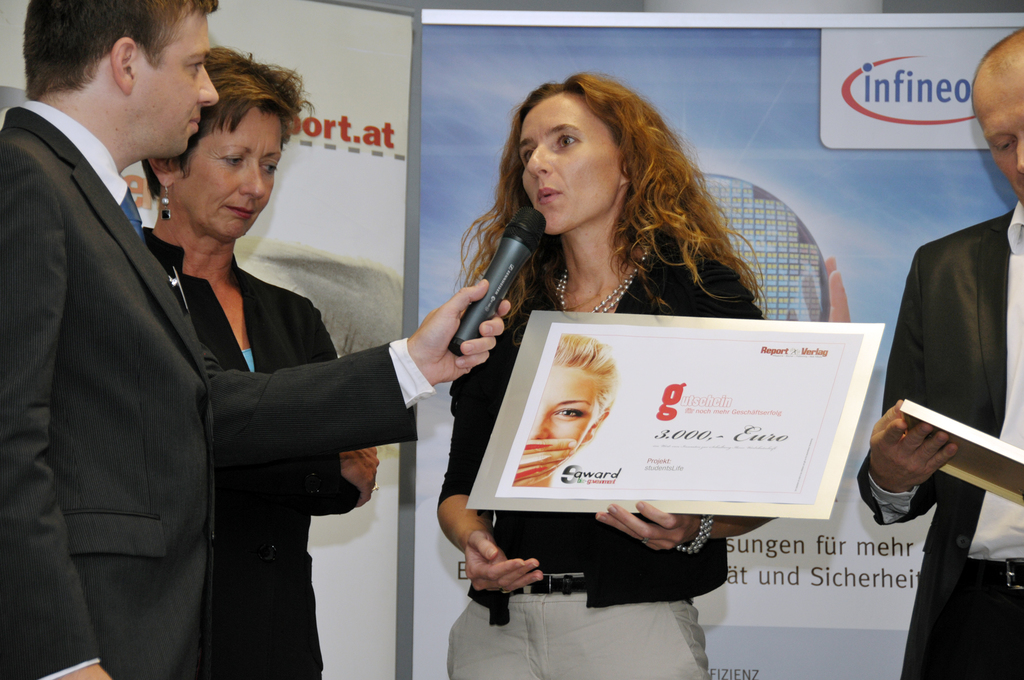Human_hand: (412, 279, 512, 382), (869, 398, 959, 489), (467, 531, 552, 615), (598, 500, 701, 555), (785, 256, 851, 324), (513, 440, 572, 485), (344, 450, 378, 501), (60, 667, 111, 679)
